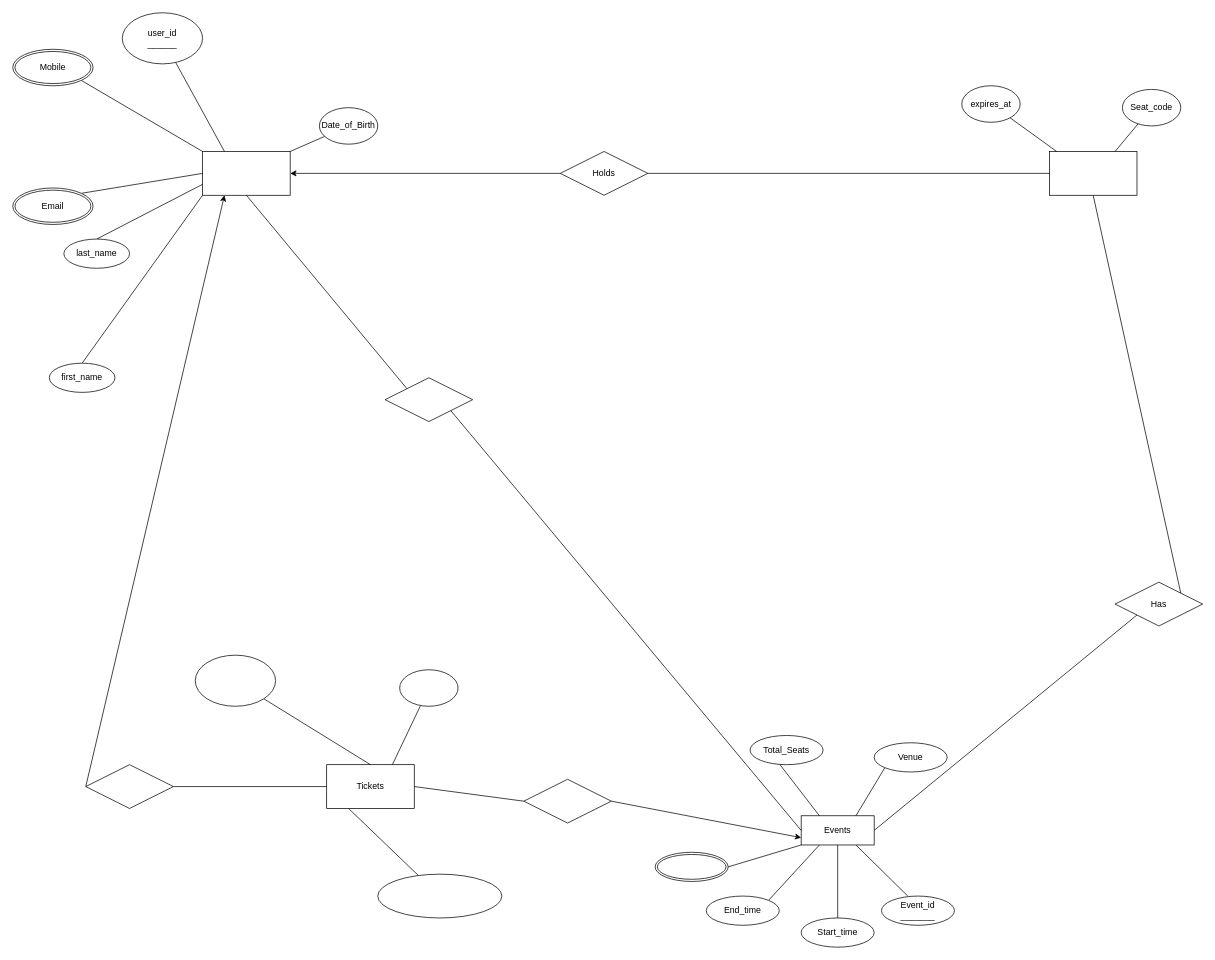
Image size: 1215x960. Some labels were removed from this diagram. The shapes that lost their labels are listed below. From the top down, each one's box as (x1, y1, x2, y2) in pixels, then its label:
(202, 151, 290, 195): Users
(1049, 151, 1137, 195): Seats_reservation
(384, 377, 473, 422): Attends
(195, 654, 276, 706): Ticket_id ________
(399, 669, 458, 706): Price
(85, 764, 173, 808): Owns
(523, 779, 611, 823): Access
(654, 852, 728, 881): Performers
(377, 873, 502, 918): associated_seat_code
